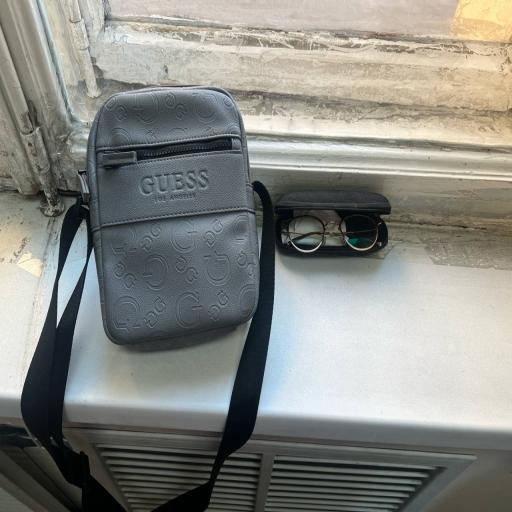door: (21, 86, 275, 512)
